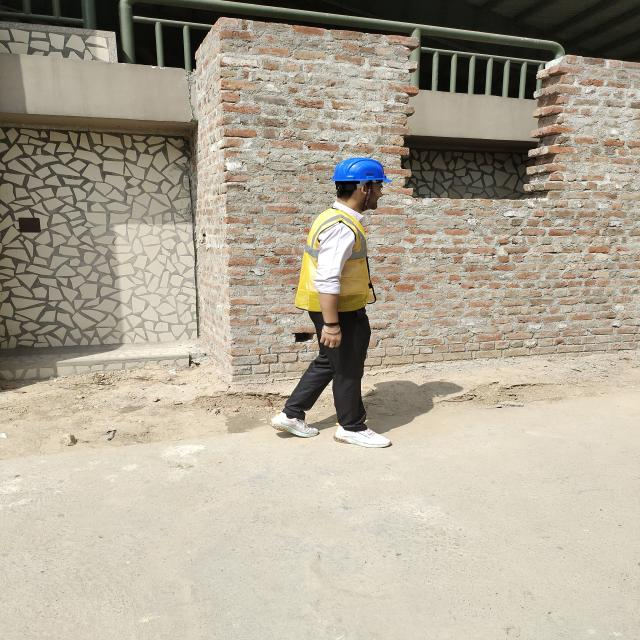safe: (292, 158, 390, 448)
